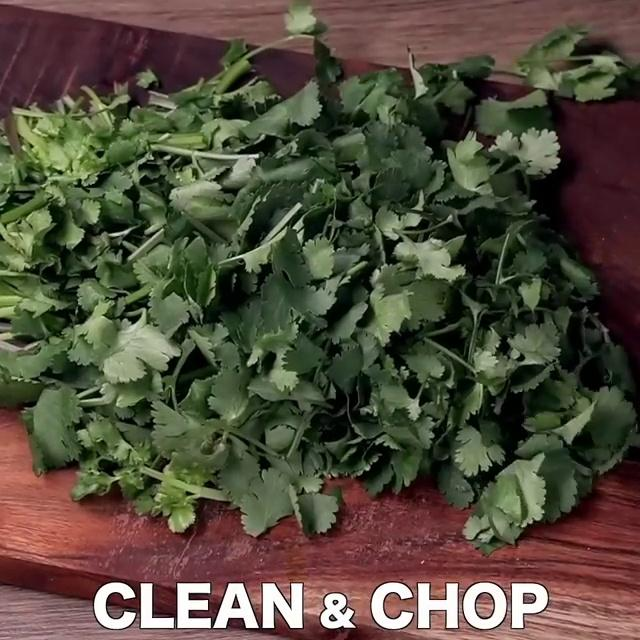cilantro: (0, 67, 634, 519)
